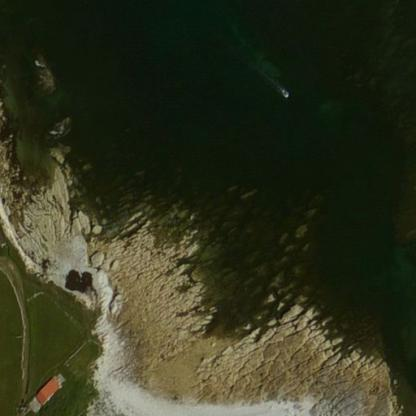ship: (280, 86, 290, 100)
